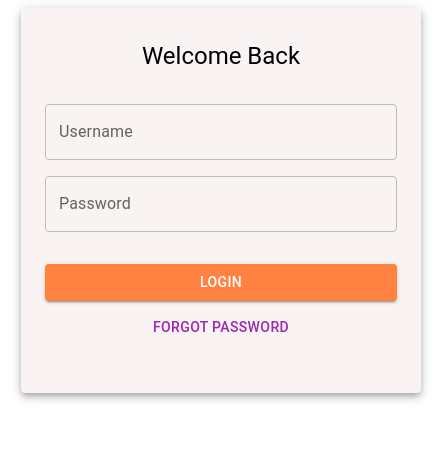
Test case: LoginPage Component › should show error message on failed login
Type "wronguser" into the field with test id "username-input". click: (221, 132)
box: [45,104,397,160]
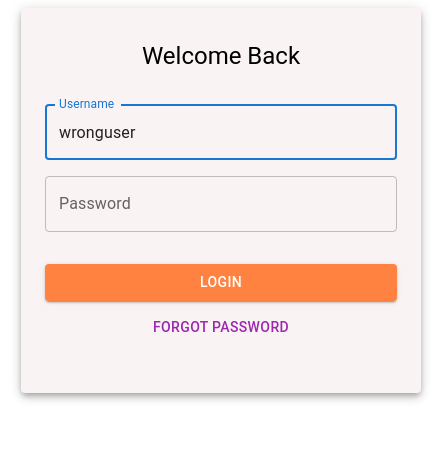
Type "wrongpassword" into the password field with test id "password-input". click: (221, 204)
box: [45,176,397,232]
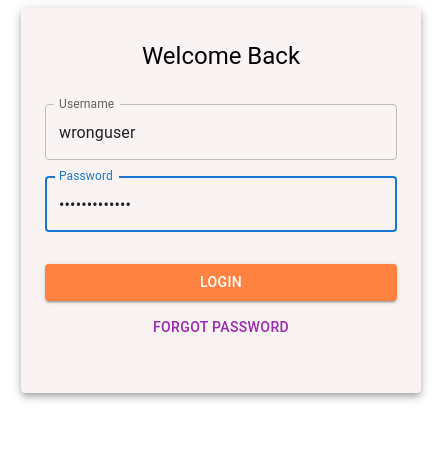
Click the button with test id "login-button". click: click(221, 283)
box: [45,264,397,301]
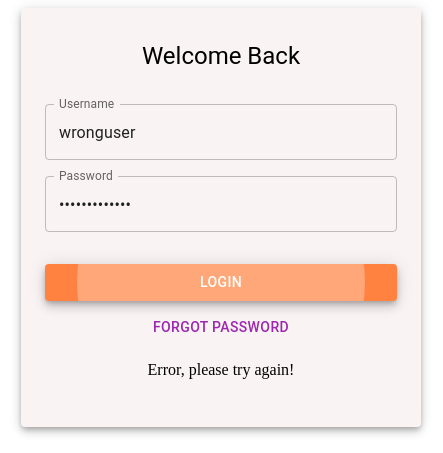
expect the text with test id "login-error" reads "Error, please try again!": met, box [148,361,295,378]
